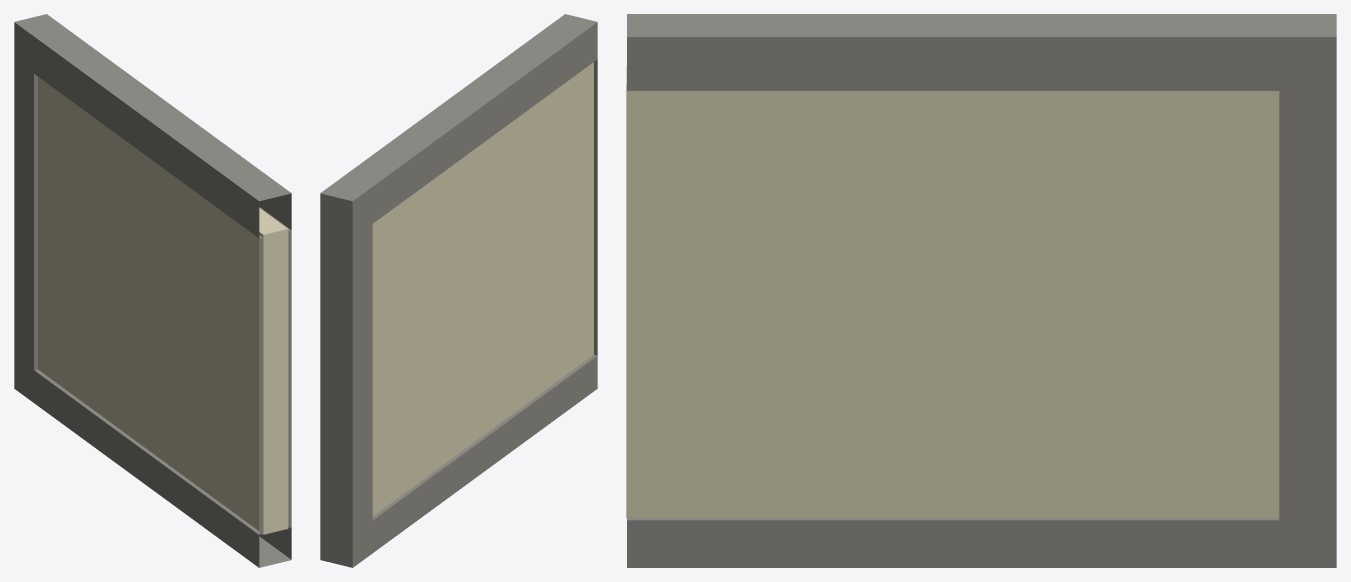
The model's file is Wall02_house2.obj.
3 views of the same model, side by side, from view 1: azimuth 30°, elevation 25°; view 2: azimuth 150°, elevation 25°; view 3: azimuth 270°, elevation 25° (orthographic). The views are drawn at different scales.
Visible parts, largest first — view 1: Wall02_house02_Cube.004; view 2: Wall02_house02_Cube.004; view 3: Wall02_house02_Cube.004.
Part boxes in pixels (x1=…): Wall02_house02_Cube.004: x1=14, y1=14, x2=291, y2=567; Wall02_house02_Cube.004: x1=320, y1=14, x2=597, y2=567; Wall02_house02_Cube.004: x1=626, y1=14, x2=1336, y2=567.
Size of the model in its own units: 0.3417 by 3.67 by 4.45.
